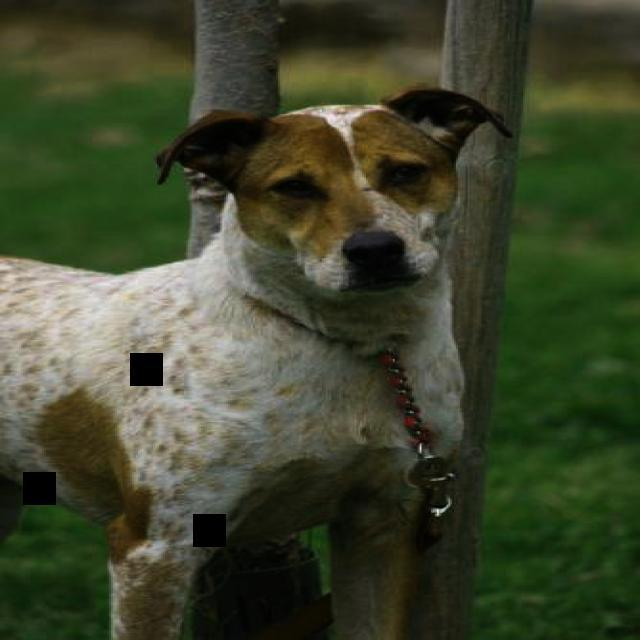adult_dog: (0, 73, 517, 640)
